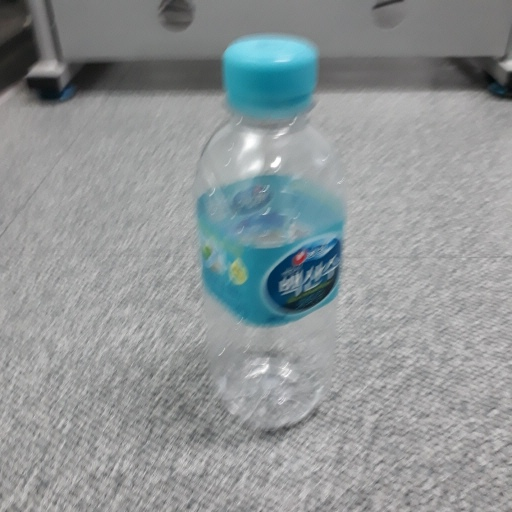Plastic_0: (195, 36, 348, 433)
